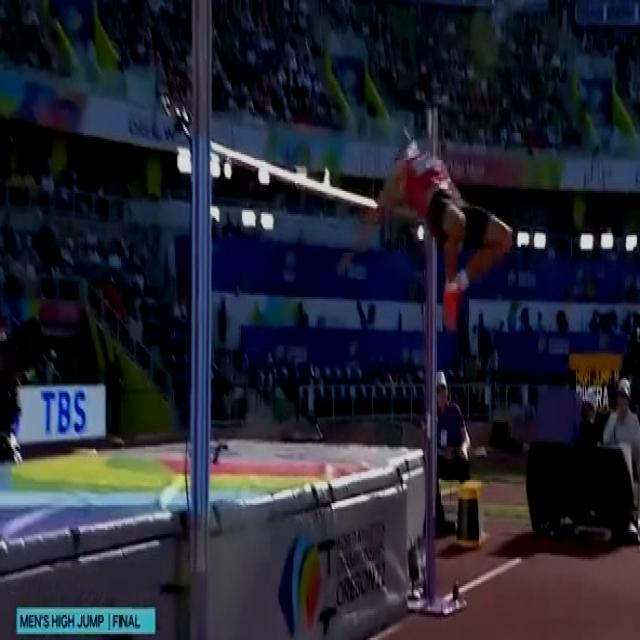jump: (335, 139, 514, 332)
